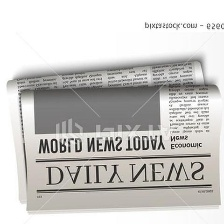news_paper: (4, 57, 208, 205), (19, 83, 224, 211)
